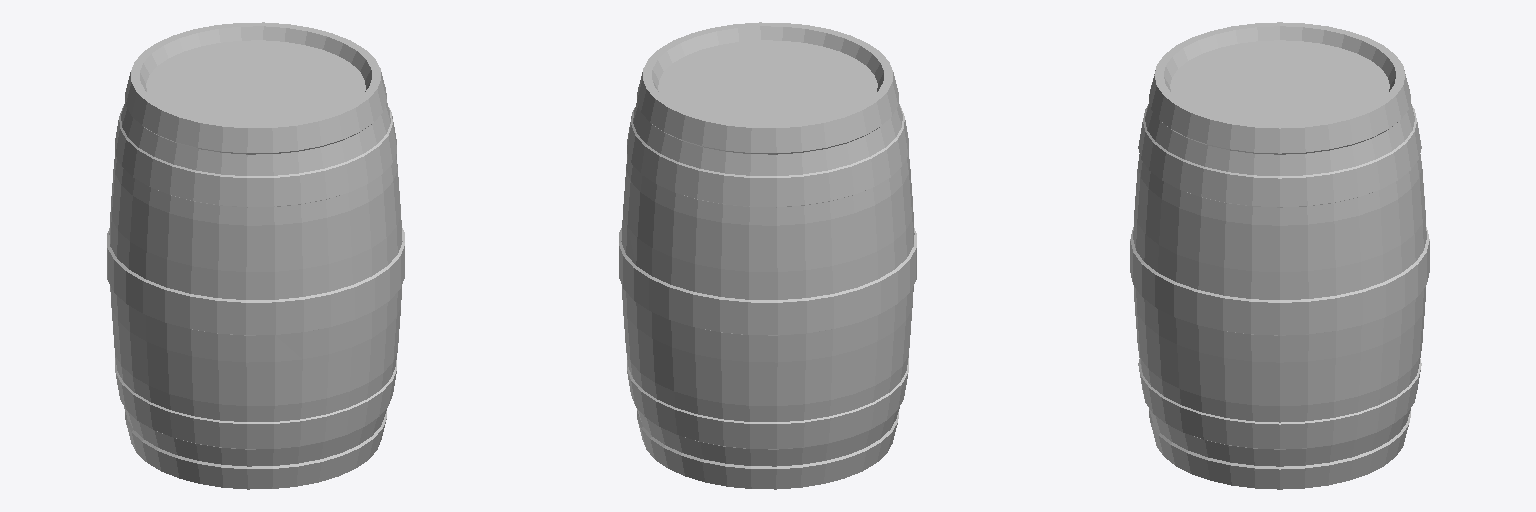
File: barrel.obj
The picture shows the model from 3 angles: view 1: azimuth 30°, elevation 25°; view 2: azimuth 150°, elevation 25°; view 3: azimuth 270°, elevation 25°; orthographic projection.
Parts seen in each view (by area): view 1: Cylinder; view 2: Cylinder; view 3: Cylinder.
Boxes of the visible parts, <box> form: Cylinder: <box>107,22,404,489</box>; Cylinder: <box>619,22,916,489</box>; Cylinder: <box>1130,22,1429,489</box>.
Bounding box in the file's own units: 0.198 × 0.2634 × 0.198.